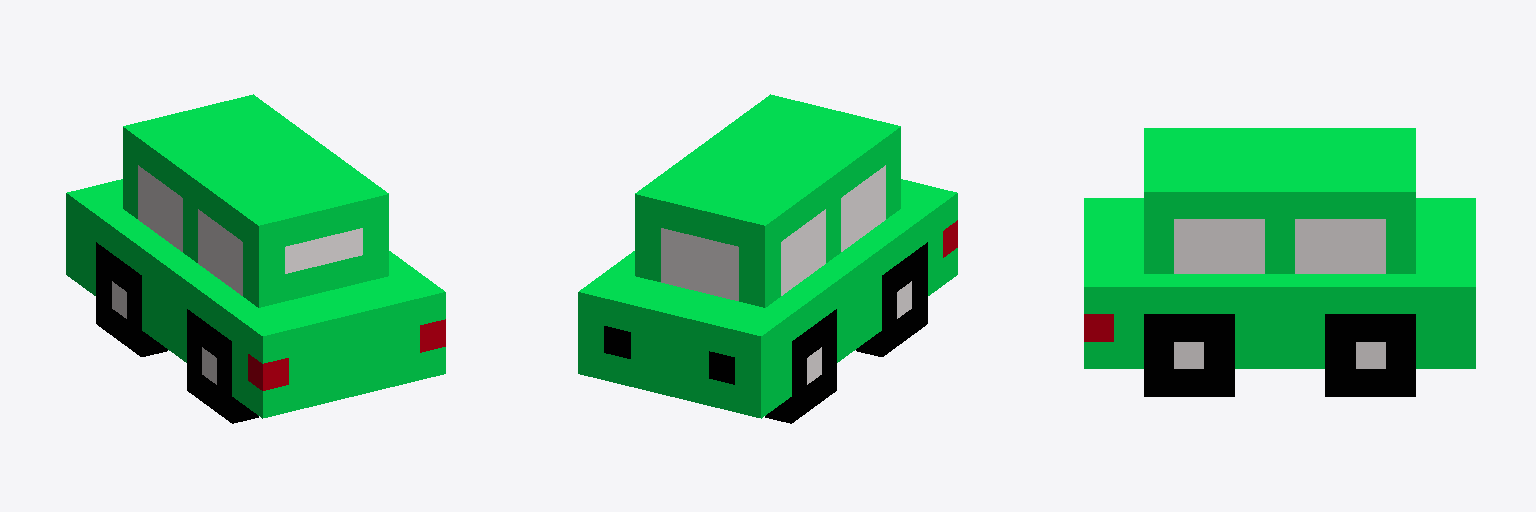
The picture shows the model from 3 angles: view 1: azimuth 30°, elevation 25°; view 2: azimuth 150°, elevation 25°; view 3: azimuth 270°, elevation 25°; orthographic projection.
Visible parts, largest first — view 1: Model; view 2: Model; view 3: Model.
Boxes of the visible parts, box(x1,y1,x2,y2) form: Model: box(66, 94, 445, 423); Model: box(578, 94, 957, 423); Model: box(1084, 128, 1475, 396).
Size of the model in its own units: 14 by 14 by 26.
1 materials, 1 textured.